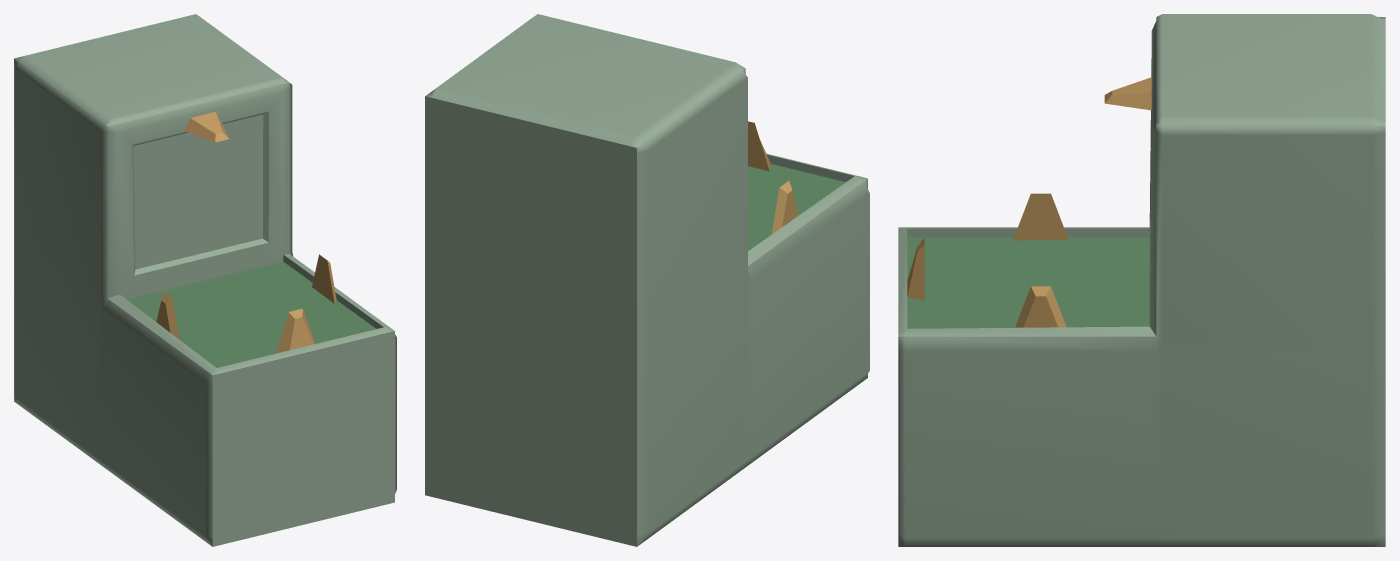
The model's file is Power machine export.fbx.
3 renders of one model, left to right at view 1: azimuth 30°, elevation 25°; view 2: azimuth 150°, elevation 25°; view 3: azimuth 270°, elevation 25°, orthographic. The views are drawn at different scales.
Visible parts, largest first — view 1: pCube19; view 2: pCube19; view 3: pCube19.
Boxes of the visible parts, <box> form: pCube19: <box>14,14,396,546</box>; pCube19: <box>425,14,869,546</box>; pCube19: <box>898,14,1385,546</box>.
Bounding box in the file's own units: 2.63 × 4.57 × 4.72.
